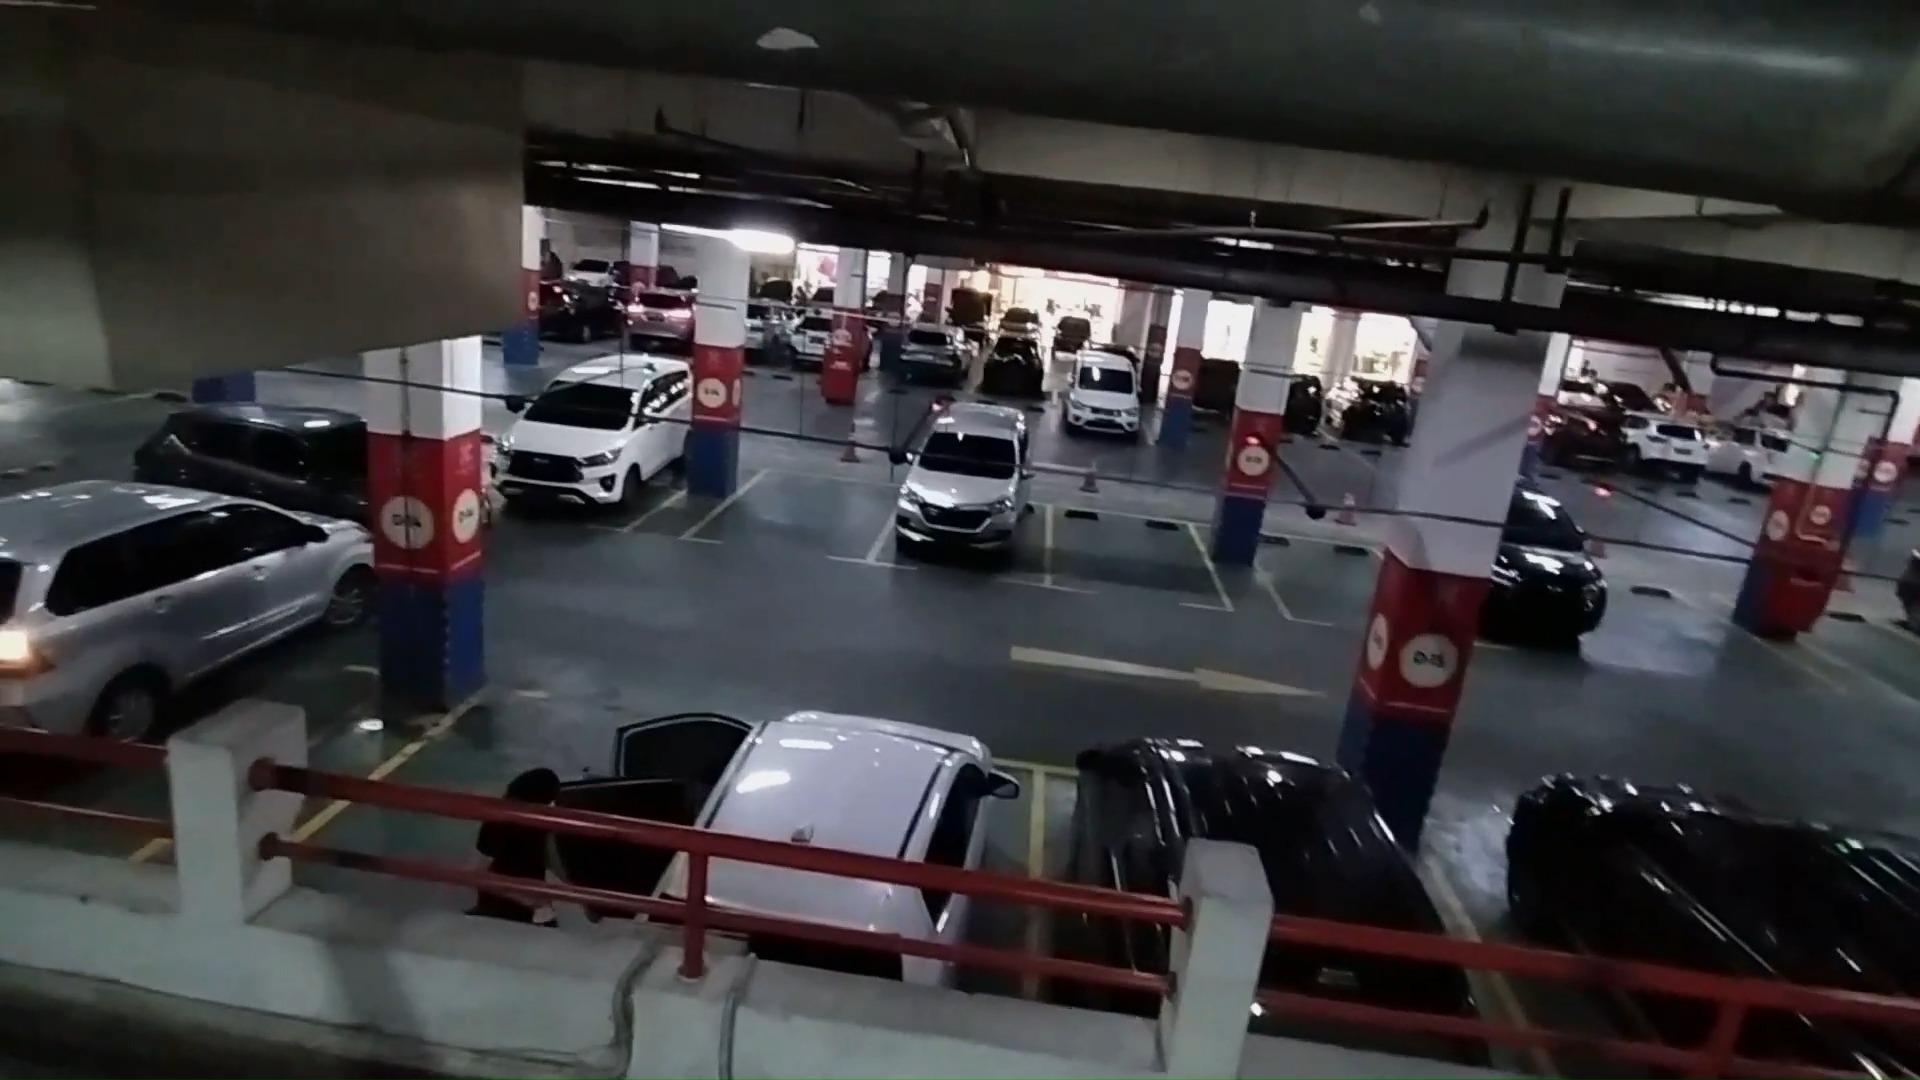empty: (312, 680, 687, 932), (679, 466, 894, 565), (1043, 500, 1232, 612), (1255, 530, 1383, 627)
occupied: (1029, 740, 1472, 1038), (654, 710, 1043, 1000), (488, 365, 693, 536), (874, 437, 1054, 590)
